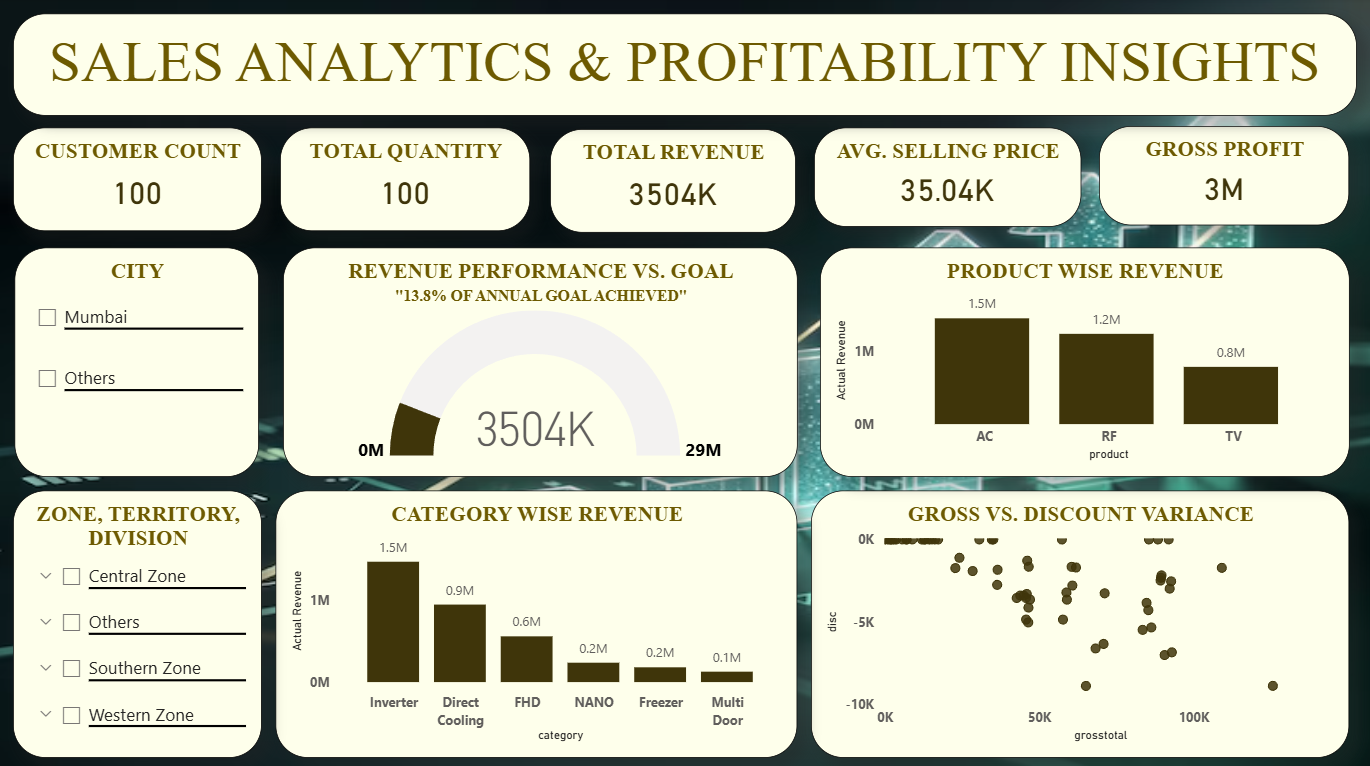

The page's visual inventory and layout, read from the dashboard file:
{"tool":"powerbi","page":{"name":"Page 1","canvas":[1280,720],"ordinal":0},"visuals":[{"type":"card","title":"CUSTOMER COUNT","fields":{"Values":["dimcustomer().Total Customer"]},"box":[14,121.7,232.2,96.5],"z":0},{"type":"card","title":"TOTAL REVENUE","fields":{"Values":["salesfact().Actual Revenue"]},"box":[514.1,123.1,229.4,96.5],"z":1000},{"type":"card","title":"AVG. SELLING PRICE","fields":{"Values":["salesfact().Avg. Selling Price"]},"box":[760.7,121.7,249,92.3],"z":2000},{"type":"card","title":"TOTAL QUANTITY","fields":{"Values":["salesfact().Total Quantity"]},"box":[263.4,121.7,233.6,96.5],"z":3000},{"type":"gauge","title":"REVENUE PERFORMANCE VS. GOAL","fields":{"Y":["salesfact().Total Revenue"],"MaxValue":["salestarget().Target Revenue"]},"box":[265.1,233.6,479.9,214],"z":4000},{"type":"slicer","title":"CITY","fields":{"Values":["dimcustomer().city"]},"box":[15.4,233.6,228,214],"z":5000},{"type":"card","title":"GROSS PROFIT","fields":{"Values":["salesfact().Gross Profit"]},"box":[1026.9,120.3,233.6,92.3],"z":6000},{"type":"scatterChart","title":"GROSS VS. DISCOUNT VARIANCE","fields":{"Y":["salesfact().disc"],"X":["salesfact().grosstotal"]},"box":[758.3,460.3,502.2,249],"z":7000},{"type":"clusteredColumnChart","title":"CATEGORY WISE REVENUE","fields":{"Category":["dimproduct().category"],"Y":["salesfact().Actual Revenue"]},"box":[258.8,460.3,486.8,249],"z":8000},{"type":"slicer","title":"ZONE, TERRITORY, DIVISION","fields":{"Values":["dimshowroom().zone","dimshowroom().territory","dimshowroom().division"]},"box":[14,460.3,232.2,249],"z":9000},{"type":"clusteredColumnChart","title":"PRODUCT WISE REVENUE","fields":{"Y":["salesfact().Actual Revenue"],"Category":["dimproduct().product"]},"box":[766.6,233.6,493.8,214],"z":10000},{"type":"textbox","box":[14,15.4,1253.5,95.1],"z":11000}]}

Visuals, with their boxes in screenshot pixels (x1, y1, x2, y2), scaled from the page's 1280x720 canvas onto the 1370x766 screenshot:
"CUSTOMER COUNT" card: l=15, t=129, r=264, b=232
"TOTAL REVENUE" card: l=550, t=131, r=796, b=234
"AVG. SELLING PRICE" card: l=814, t=129, r=1081, b=228
"TOTAL QUANTITY" card: l=282, t=129, r=532, b=232
"REVENUE PERFORMANCE VS. GOAL" gauge: l=284, t=249, r=797, b=476
"CITY" slicer: l=16, t=249, r=261, b=476
"GROSS PROFIT" card: l=1099, t=128, r=1349, b=226
"GROSS VS. DISCOUNT VARIANCE" scatterChart: l=812, t=490, r=1349, b=755
"CATEGORY WISE REVENUE" clusteredColumnChart: l=277, t=490, r=798, b=755
"ZONE, TERRITORY, DIVISION" slicer: l=15, t=490, r=264, b=755
"PRODUCT WISE REVENUE" clusteredColumnChart: l=821, t=249, r=1349, b=476
textbox: l=15, t=16, r=1357, b=118
